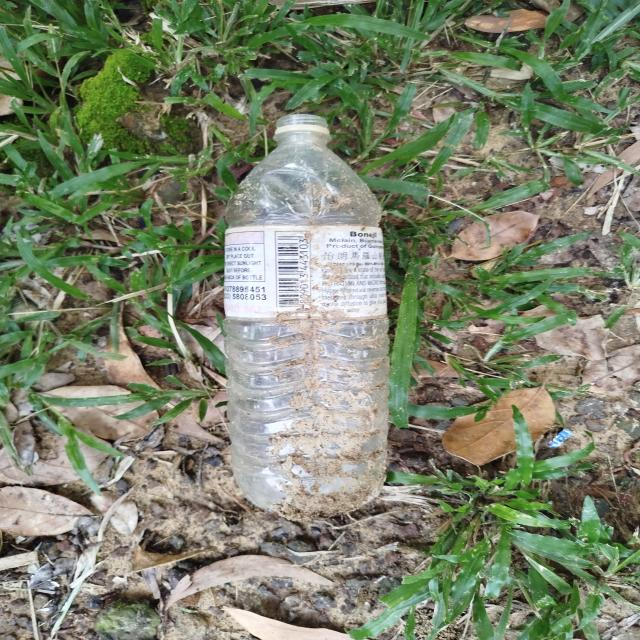plastic: (204, 106, 403, 528)
